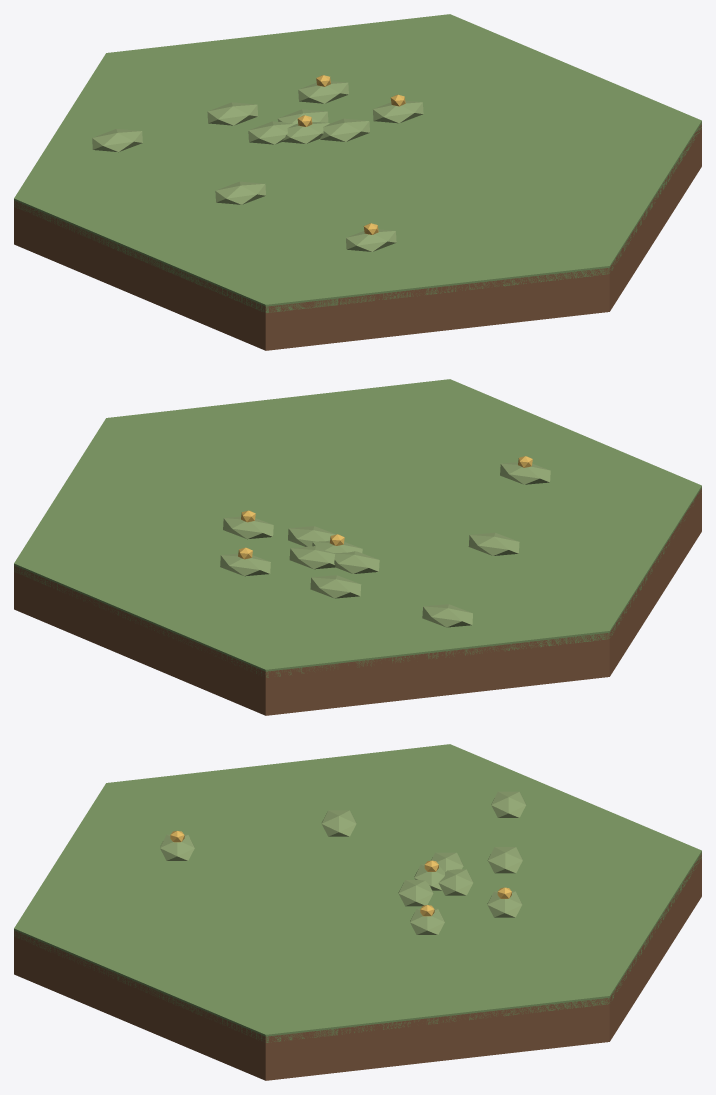
File: meadow.glb
The picture shows the model from 3 angles, top to bottom: view 1: azimuth 30°, elevation 25°; view 2: azimuth 150°, elevation 25°; view 3: azimuth 270°, elevation 25°; orthographic projection.
Visible parts, largest first — view 1: Cone.001, Cone, Icosphere.003, Icosphere.010, Icosphere.002, Icosphere.011, Icosphere, Icosphere.012, Icosphere.008, Icosphere.007, Icosphere.004; view 2: Cone.001, Cone, Icosphere.003, Icosphere.010, Icosphere.002, Icosphere, Icosphere.012, Icosphere.008, Icosphere.006, Icosphere.007, Icosphere.011; view 3: Cone.001, Cone, Icosphere.010, Icosphere.002, Icosphere.003, Icosphere.011, Icosphere.006, Icosphere.012, Icosphere.008, Icosphere.
Boxes of the visible parts, box(x1,y1,x2,y2) form: Cone.001: box(14, 14, 701, 312); Cone: box(14, 124, 701, 350); Icosphere.003: box(92, 129, 142, 152); Icosphere.010: box(207, 102, 258, 125); Icosphere.002: box(215, 181, 265, 204); Icosphere.011: box(320, 118, 369, 141); Icosphere: box(346, 229, 396, 251); Icosphere.012: box(298, 81, 348, 103); Icosphere.008: box(373, 100, 423, 123); Icosphere.007: box(248, 121, 294, 144); Icosphere.004: box(282, 122, 329, 143); Cone.001: box(14, 379, 701, 677); Cone: box(14, 488, 701, 715); Icosphere.003: box(422, 604, 472, 627); Icosphere.010: box(310, 575, 361, 598); Icosphere.002: box(468, 532, 519, 555); Icosphere: box(500, 462, 550, 484); Icosphere.012: box(220, 553, 270, 576); Icosphere.008: box(223, 516, 273, 539); Icosphere.006: box(289, 546, 335, 569); Icosphere.007: box(334, 551, 379, 573); Icosphere.011: box(288, 526, 336, 546); Cone.001: box(14, 744, 701, 1042); Cone: box(14, 853, 701, 1080); Icosphere.010: box(487, 847, 522, 873); Icosphere.002: box(321, 810, 356, 836); Icosphere.003: box(491, 791, 526, 817); Icosphere.011: box(398, 880, 433, 906); Icosphere.006: box(438, 869, 473, 895); Icosphere.012: box(487, 891, 522, 917); Icosphere.008: box(410, 908, 444, 934); Icosphere: box(160, 834, 194, 860).
Size of the model in its own units: 3.67 by 0.395 by 3.67.
